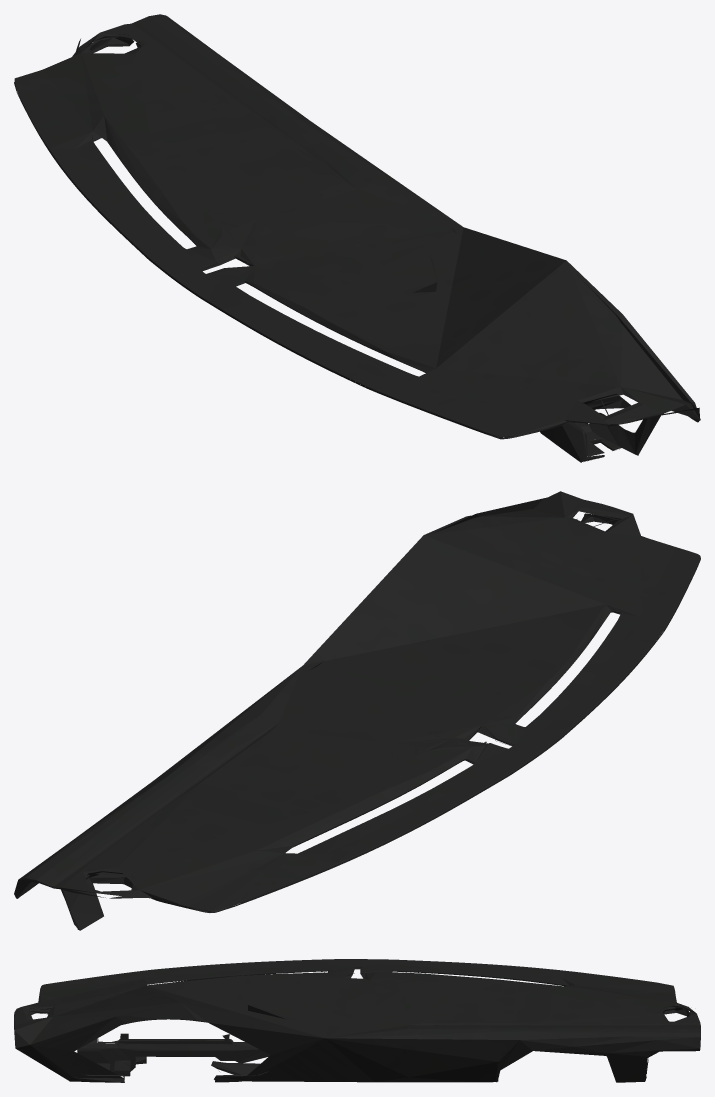
The model's file is interiorPart_dashboard_panel_assembly_d01.glb.
The picture shows the model from 3 angles, top to bottom: view 1: azimuth 30°, elevation 25°; view 2: azimuth 150°, elevation 25°; view 3: azimuth 270°, elevation 25°; orthographic projection. The views are drawn at different scales.
Parts seen in each view (by area): view 1: geometry_0; view 2: geometry_0; view 3: geometry_0.
Boxes of the visible parts, x1=… form: geometry_0: x1=14, y1=14, x2=700, y2=462; geometry_0: x1=14, y1=491, x2=700, y2=930; geometry_0: x1=14, y1=959, x2=700, y2=1082.
Bounding box in the file's own units: 0.1213 × 0.0588 × 0.42.
Materials: 1 (1 with a texture image).
